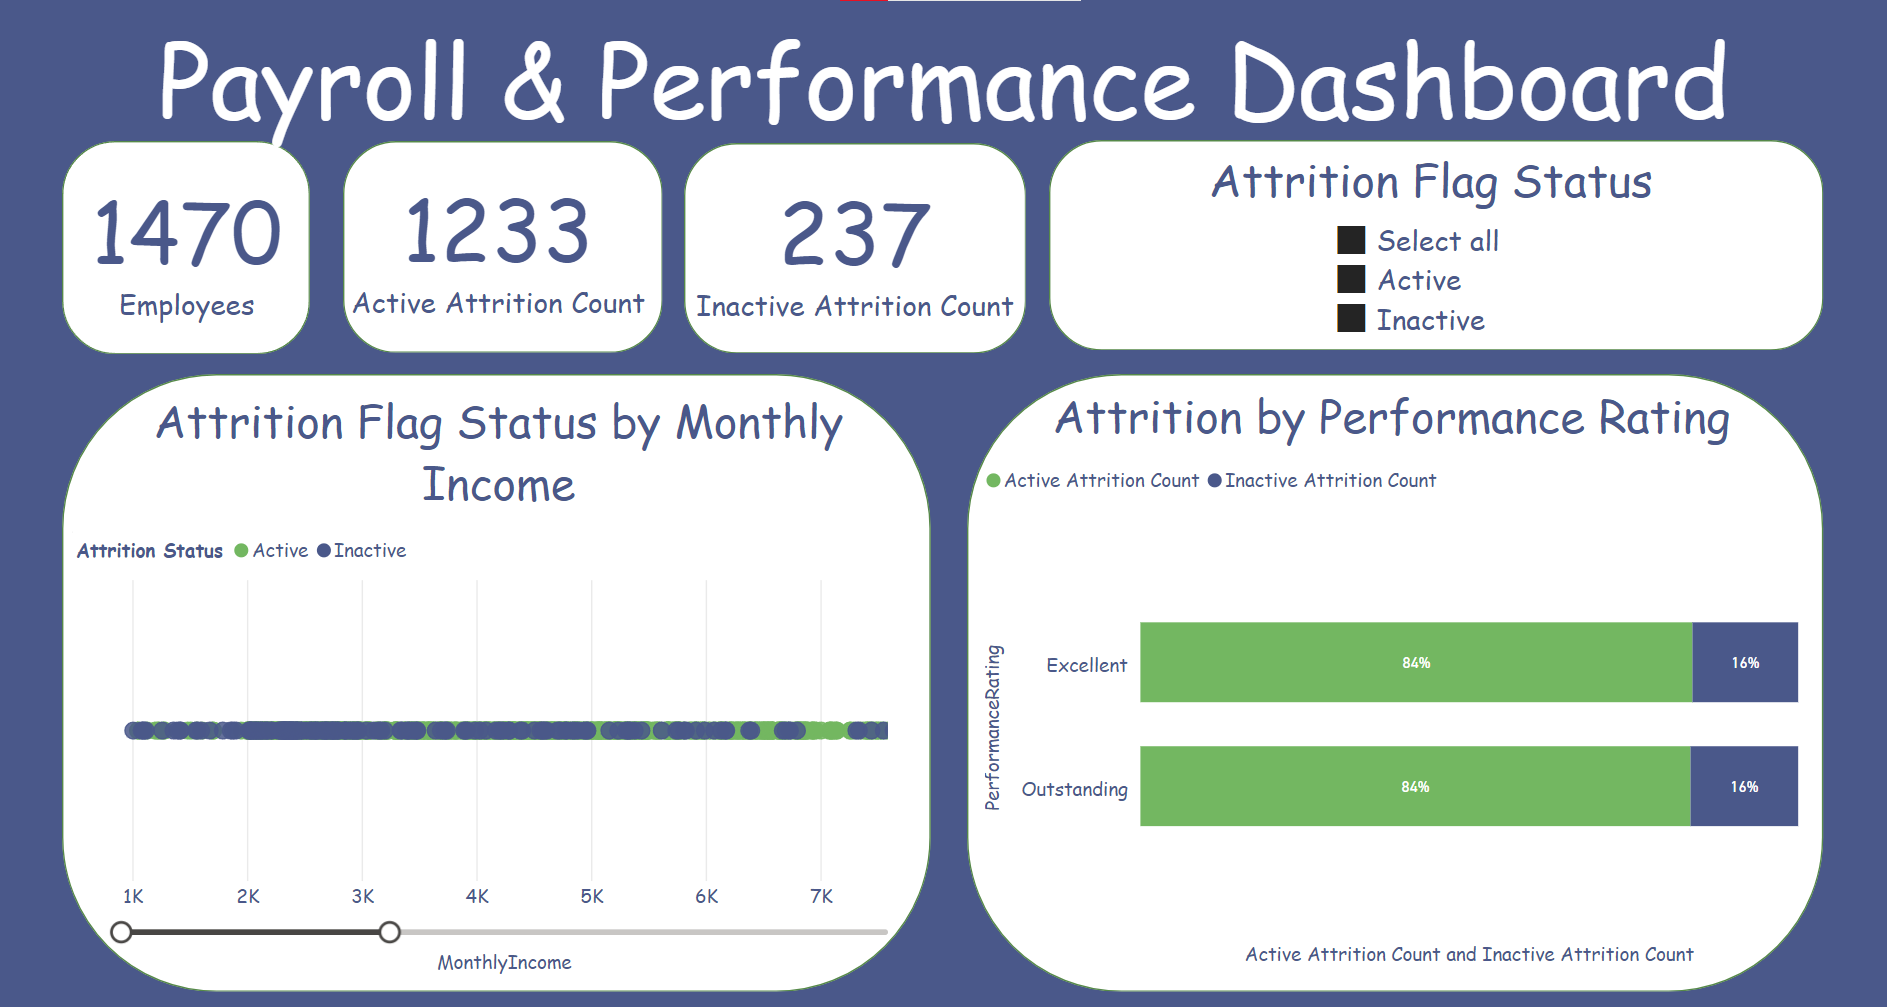

What the dashboard file says about the page in this screenshot:
{"tool":"powerbi","page":{"name":"Payroll & Performance Dashboard","canvas":[1280,720],"ordinal":3},"visuals":[{"type":"shape","box":[9.9,100.9,177.2,152.4],"z":0,"group":"g4"},{"type":"group","id":"g1","title":"Group 1","box":[9.9,267.2,620.5,441.4],"z":0,"group":"g8"},{"type":"group","id":"g2","title":"Group 2","box":[656.2,267.2,611.6,441.4],"z":0},{"type":"group","id":"g3","title":"Group 1","box":[656.2,267.2,611.6,441.4],"z":0,"group":"g2"},{"type":"group","id":"g4","title":"Group 3","box":[9.9,100.9,177.2,152.4],"z":1000},{"type":"textbox","box":[703.2,269.7,512,56.9],"z":1000,"group":"g2"},{"type":"textbox","box":[67.4,272.9,507.7,100],"z":1000,"group":"g8"},{"type":"group","id":"g5","title":"Group 4","box":[200.9,100.9,241.5,151.4],"z":2000},{"type":"group","id":"g6","title":"Group 5","box":[452.3,101.9,248.4,150.4],"z":3000},{"type":"card","fields":{"Values":["CountNonNull(Demographic_Data.EmployeeID)"]},"box":[14.8,106.8,168.2,140.5],"z":3500,"group":"g4"},{"type":"textbox","box":[0,0,1279.7,112.8],"z":4000},{"type":"group","id":"g7","title":"Group 12","box":[712,100,555.8,150.4],"z":4000,"group":"g11"},{"type":"group","id":"g8","title":"Group 2","box":[9.9,267.2,620.5,441.4],"z":4000,"group":"g10"},{"type":"group","id":"g9","title":"Group 7","box":[9.9,267.2,620.5,441.4],"z":5000},{"type":"group","id":"g10","title":"Group 6","box":[9.9,267.2,620.5,441.4],"z":6000,"group":"g9"},{"type":"hundredPercentStackedBarChart","fields":{"Category":["Performance_Data.PerformanceRating"],"Y":["Attrition_Data.Active Attrition Count","Attrition_Data.Inactive Attrition Count"]},"box":[664.1,322.6,590.8,373.1],"z":6000},{"type":"shape","box":[9.9,267.2,620.5,441.4],"z":6500,"group":"g1"},{"type":"shape","box":[656.2,267.2,611.6,441.4],"z":6500,"group":"g3"},{"type":"group","id":"g11","title":"Group 8","box":[712,100,555.8,150.4],"z":7000},{"type":"slicer","fields":{"Values":["Attrition_Data.AttritionFlag"]},"box":[907.9,151.5,144.5,97],"z":7000,"group":"g11"},{"type":"scatterChart","fields":{"X":["Payroll_Data.MonthlyIncome"],"Series":["Attrition_Data.AttritionFlag"]},"box":[14.8,373.1,598.8,322.6],"z":8002,"group":"g9"},{"type":"shape","box":[454.4,101.9,244.5,150.4],"z":8500,"group":"g6"},{"type":"card","fields":{"Values":["Attrition_Data.Inactive Attrition Count"]},"box":[452.3,101.9,248.4,150.4],"z":9000,"group":"g6"},{"type":"shape","box":[210.7,100.9,228.5,151.4],"z":10002,"group":"g5"},{"type":"card","fields":{"Values":["Attrition_Data.Active Attrition Count"]},"box":[200.9,100.9,241.5,149.4],"z":10502,"group":"g5"},{"type":"shape","box":[714.5,100,553.2,150.4],"z":11000,"group":"g13"},{"type":"textbox","box":[712,101,551.3,63.3],"z":13500,"group":"g13"},{"type":"group","id":"g12","title":"Group 13","box":[712,100,555.8,150.4],"z":13503,"group":"g7"},{"type":"group","id":"g13","title":"Group 11","box":[712,100,555.8,150.4],"z":14501,"group":"g12"}]}

Visuals, with their boxes on the page's 1280x720 design canvas (x1, y1, x2, y2). These are canvas units, not pixel positions in the 1887x1007 screenshot, which may show the page scaled, cropped or inside an application window:
shape: BBox(10, 101, 187, 253)
"Group 1" group: BBox(10, 267, 630, 709)
"Group 2" group: BBox(656, 267, 1268, 709)
"Group 1" group: BBox(656, 267, 1268, 709)
"Group 3" group: BBox(10, 101, 187, 253)
textbox: BBox(703, 270, 1215, 327)
textbox: BBox(67, 273, 575, 373)
"Group 4" group: BBox(201, 101, 442, 252)
"Group 5" group: BBox(452, 102, 701, 252)
card - CountNonNull(Demographic_Data.EmployeeID): BBox(15, 107, 183, 247)
textbox: BBox(0, 0, 1280, 113)
"Group 12" group: BBox(712, 100, 1268, 250)
"Group 2" group: BBox(10, 267, 630, 709)
"Group 7" group: BBox(10, 267, 630, 709)
"Group 6" group: BBox(10, 267, 630, 709)
hundredPercentStackedBarChart - Performance_Data.PerformanceRating x Attrition_Data.Active Attrition Count: BBox(664, 323, 1255, 696)
shape: BBox(10, 267, 630, 709)
shape: BBox(656, 267, 1268, 709)
"Group 8" group: BBox(712, 100, 1268, 250)
slicer - Attrition_Data.AttritionFlag: BBox(908, 152, 1052, 248)
scatterChart - Payroll_Data.MonthlyIncome x Attrition_Data.AttritionFlag: BBox(15, 373, 614, 696)
shape: BBox(454, 102, 699, 252)
card - Attrition_Data.Inactive Attrition Count: BBox(452, 102, 701, 252)
shape: BBox(211, 101, 439, 252)
card - Attrition_Data.Active Attrition Count: BBox(201, 101, 442, 250)
shape: BBox(714, 100, 1268, 250)
textbox: BBox(712, 101, 1263, 164)
"Group 13" group: BBox(712, 100, 1268, 250)
"Group 11" group: BBox(712, 100, 1268, 250)
